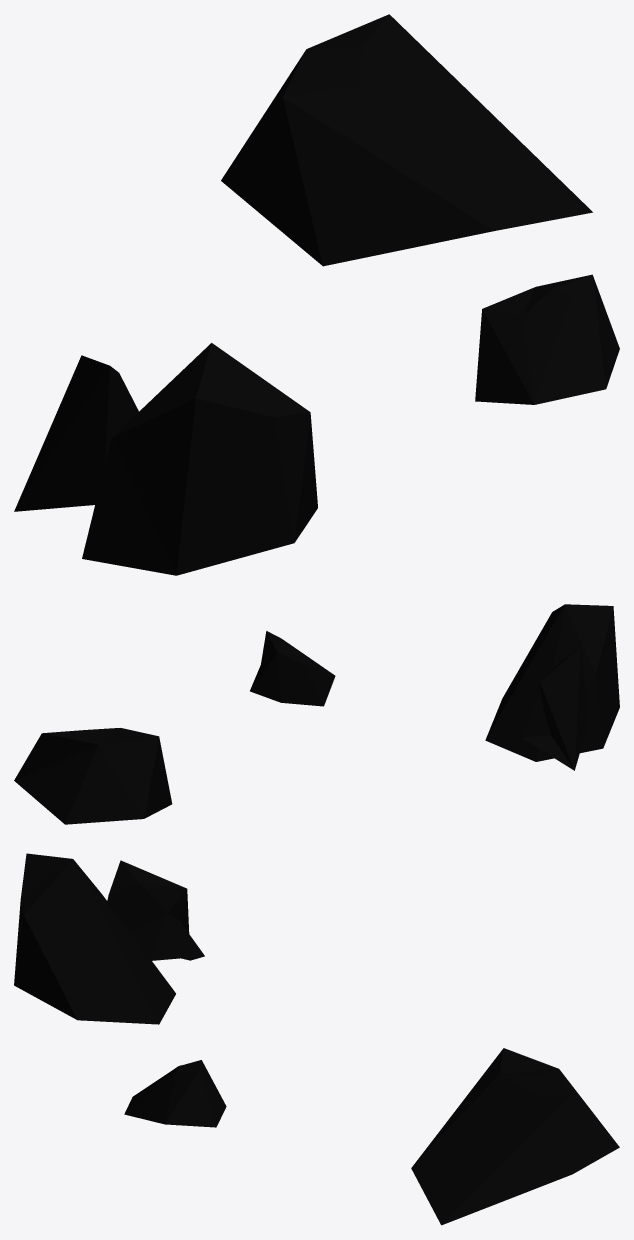
Rendered from desert_plane_rock01.FBX.
3 views of the same model, one above another, from view 1: azimuth 30°, elevation 25°; view 2: azimuth 150°, elevation 25°; view 3: azimuth 270°, elevation 25° (orthographic). The views are drawn at different scales.
Parts seen in each view (by area): view 1: rock004; view 2: rock004; view 3: rock004.
Boxes of the visible parts, x1,y1,x2,y2 form: rock004: (14, 14, 619, 575); rock004: (14, 604, 619, 824); rock004: (14, 853, 619, 1225).
Size of the model in its own units: 30.69 by 9.21 by 32.06.
Materials: 1 (1 with a texture image).
